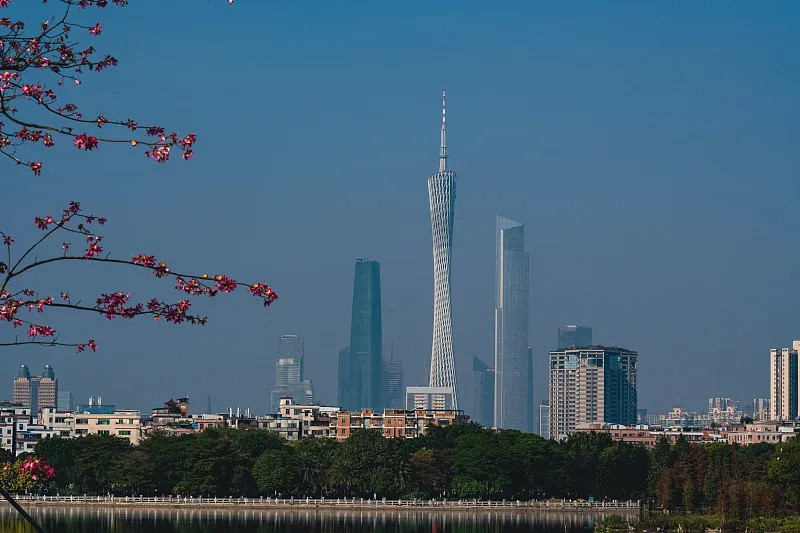Canton: (427, 87, 456, 388)
